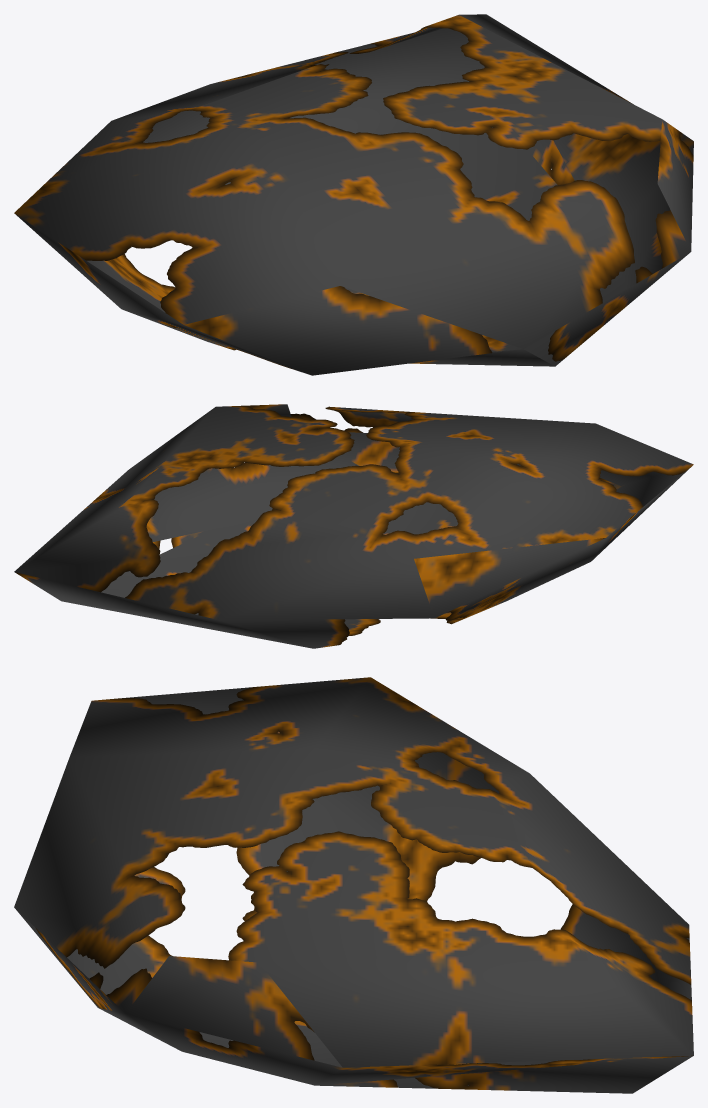
File: DefaultChunk001.fbx
The picture shows the model from 3 angles, top to bottom: view 1: azimuth 30°, elevation 25°; view 2: azimuth 150°, elevation 25°; view 3: azimuth 270°, elevation 25°; orthographic projection. The views are drawn at different scales.
Parts seen in each view (by area): view 1: chunk1; view 2: chunk1; view 3: chunk1.
Part boxes in pixels (bbox=[...]): chunk1: bbox=[14, 14, 693, 375]; chunk1: bbox=[14, 404, 693, 648]; chunk1: bbox=[14, 677, 693, 1093].
Bounding box in the file's own units: 166 × 52.47 × 152.
1 material, 1 textured.
